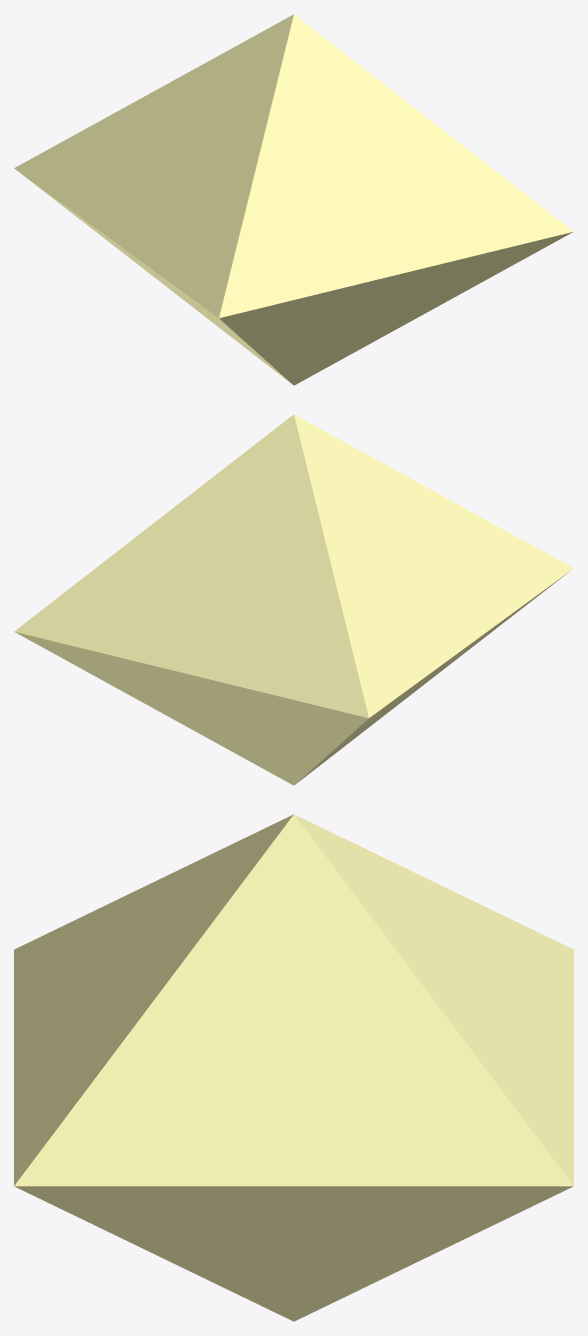
Rendered from star_diamond_yellow.glb.
3 views of the same model, one above another, from view 1: azimuth 30°, elevation 25°; view 2: azimuth 150°, elevation 25°; view 3: azimuth 270°, elevation 25° (orthographic). The views are drawn at different scales.
Parts seen in each view (by area): view 1: diamond; view 2: diamond; view 3: diamond.
Part boxes in pixels (x1,y1,x2,y2): diamond: [14, 14, 573, 385]; diamond: [14, 414, 573, 785]; diamond: [14, 814, 573, 1321].
Bounding box in the file's own units: 0.3 × 0.3 × 0.3.
